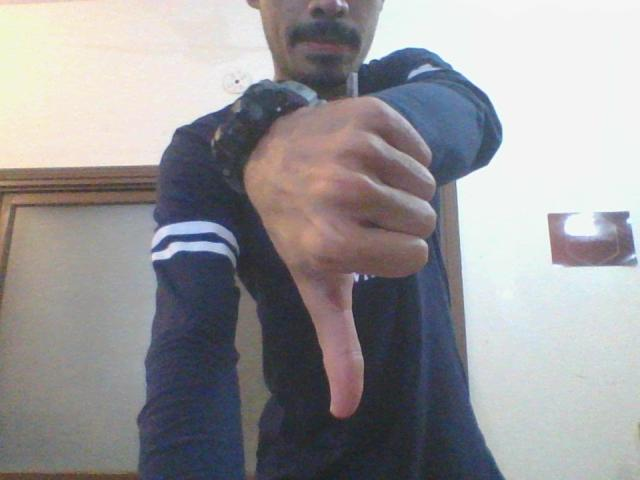thumbs-down: (273, 91, 446, 417)
